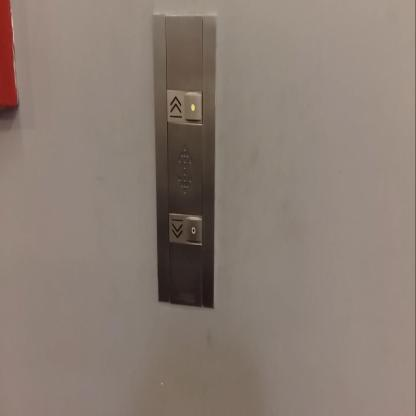down: (167, 210, 204, 248)
up: (166, 87, 205, 127)
